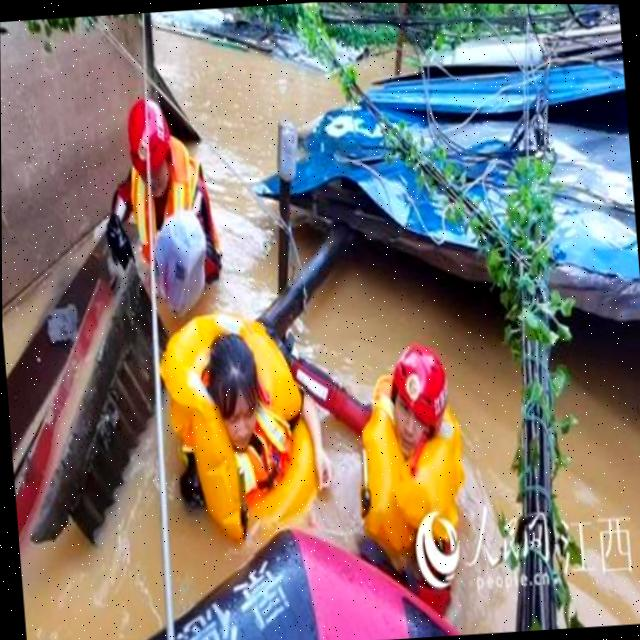civilian: (147, 297, 350, 574)
rescuer: (255, 275, 507, 614), (82, 83, 242, 333)
